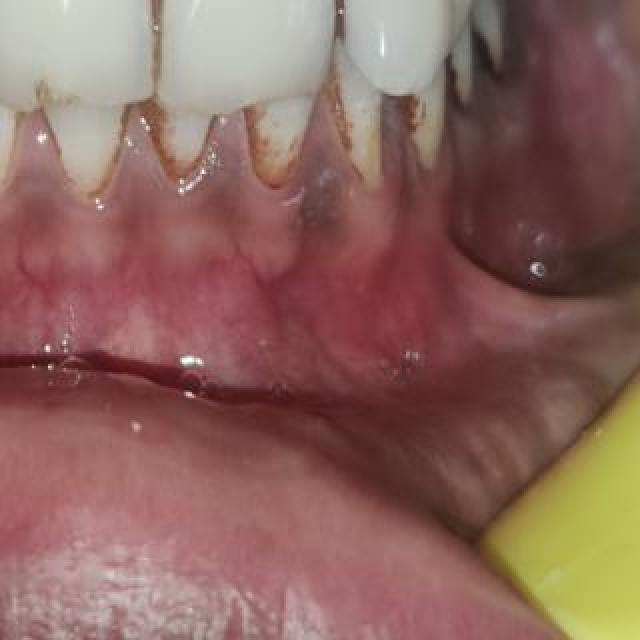stains: (313, 53, 389, 203), (49, 98, 141, 202), (243, 76, 319, 194), (141, 76, 217, 188), (116, 0, 190, 86), (388, 73, 444, 167), (433, 26, 481, 130), (468, 6, 516, 96), (316, 0, 370, 54), (0, 0, 10, 72)
